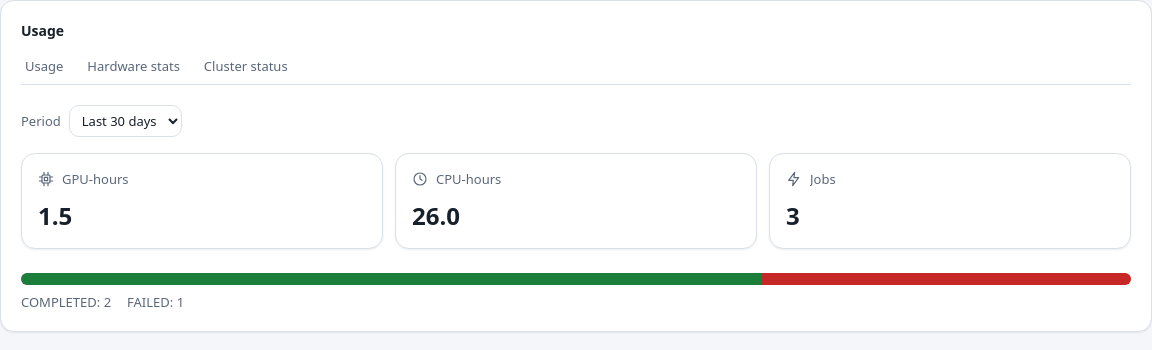
Usage › shows my three numbers and reloads for another period
The image size is (1152, 350).
Expected: the text "1.5" is shown, 38,200 -> 72,232
Expected: the text "26.0" is shown, 412,200 -> 460,232
Select "Last 7 days" in the dropdown labelled "Period" at x=125, y=121, box 69,105 -> 182,137
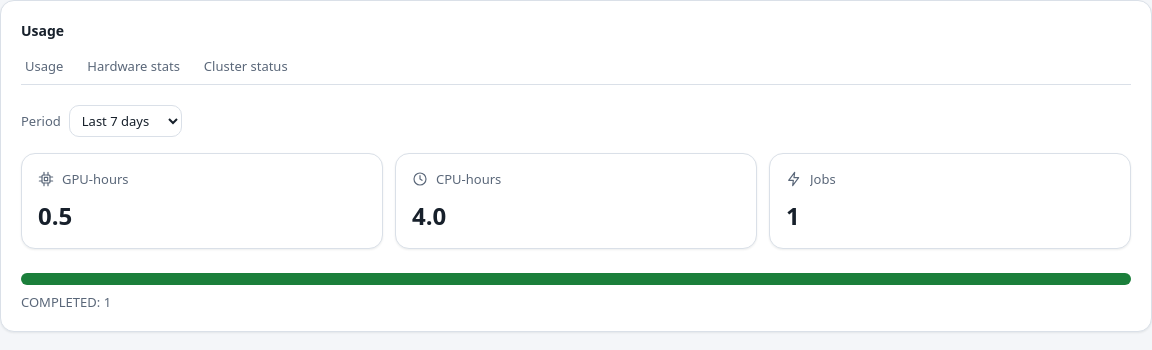
Now the text "0.5" is shown, box 38,200 -> 72,232
